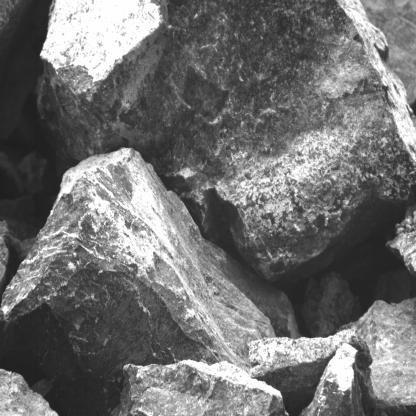stone: (36, 0, 416, 285), (0, 146, 301, 389), (108, 360, 289, 416), (336, 296, 416, 409), (297, 340, 365, 416)
